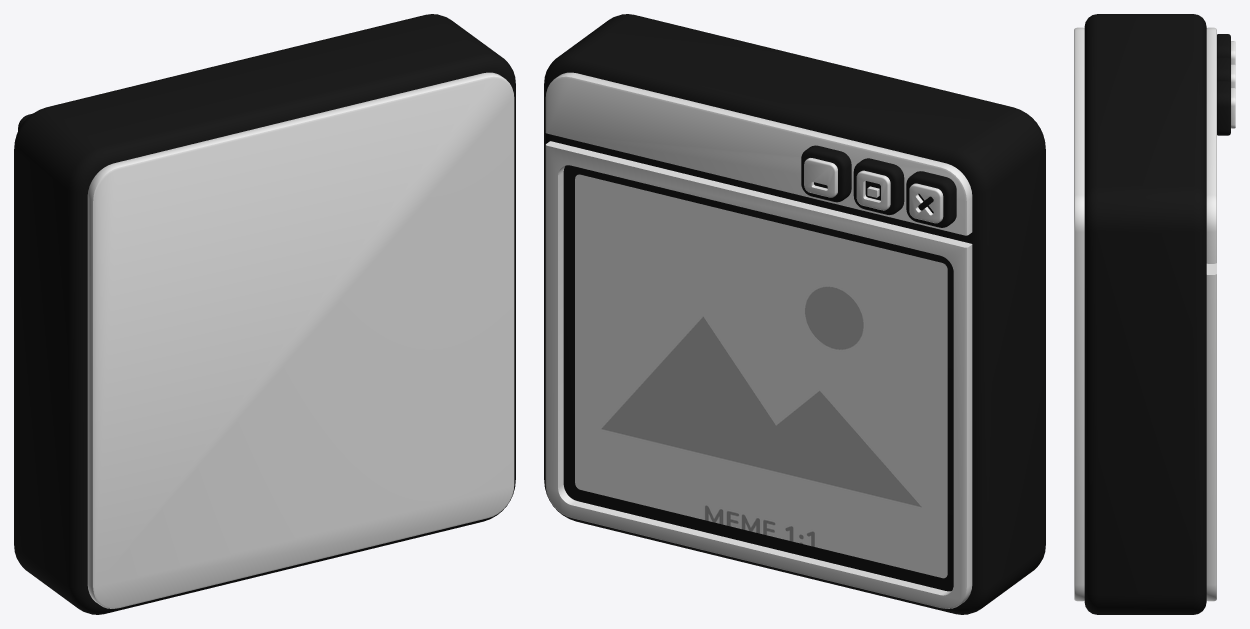
Rendered from MemeWindow.fbx.
The picture shows the model from 3 angles, left to right: view 1: azimuth 30°, elevation 25°; view 2: azimuth 150°, elevation 25°; view 3: azimuth 270°, elevation 25°; orthographic projection. The views are drawn at different scales.
Visible parts, largest first — view 1: MemeWindow; view 2: MemeWindow; view 3: MemeWindow.
Part boxes in pixels (x1,y1,x2,y2): MemeWindow: (14,14,515,614); MemeWindow: (544,14,1045,614); MemeWindow: (1074,14,1235,614).
Bounding box in the file's own units: 1 × 1 × 0.344.
Materials: 3 (1 with a texture image).
